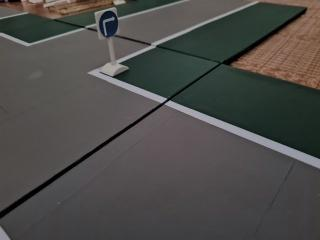right: (95, 8, 122, 43)
